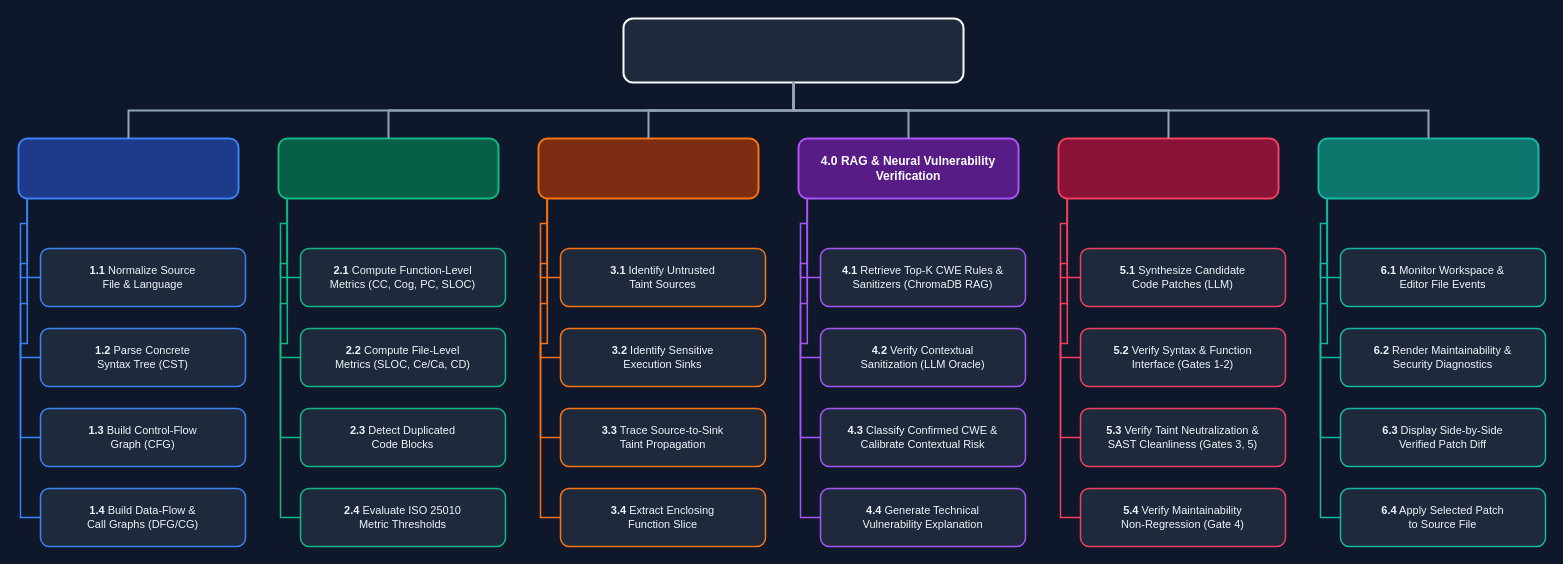
Some shapes in this 1563 by 564 pixel diagram are drawn without their labels. Each missing label, with the box of its shape:
0.0 CodeDEE System (Code Maintainability & Security Analysis and Repair): (622, 17, 964, 83)
1.0 Code Ingestion & Graph Modeling: (17, 137, 239, 199)
2.0 Maintainability Analysis: (277, 137, 499, 199)
3.0 Symbolic Security Pre-Screening: (537, 137, 759, 199)
5.0 Automated Repair & Multi-Gate Verification: (1057, 137, 1279, 199)
6.0 Developer IDE Interaction (VS Code): (1317, 137, 1539, 199)
